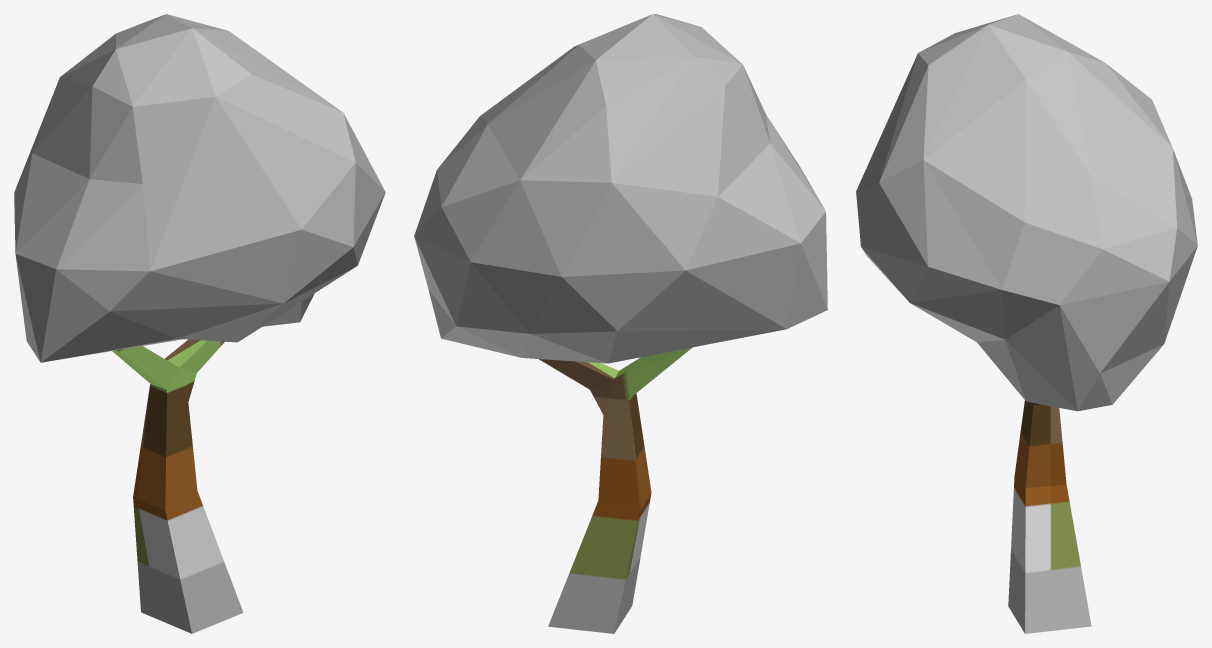
The model's file is Tree_14.fbx.
3 views of the same model, side by side, from view 1: azimuth 30°, elevation 25°; view 2: azimuth 150°, elevation 25°; view 3: azimuth 270°, elevation 25° (orthographic). The views are drawn at different scales.
Visible parts, largest first — view 1: Tree_14; view 2: Tree_14; view 3: Tree_14.
Part boxes in pixels (x1,y1,x2,y2): Tree_14: [14, 14, 385, 633]; Tree_14: [414, 14, 827, 633]; Tree_14: [856, 14, 1197, 633].
Bounding box in the file's own units: 2.67 × 4.45 × 2.39.
